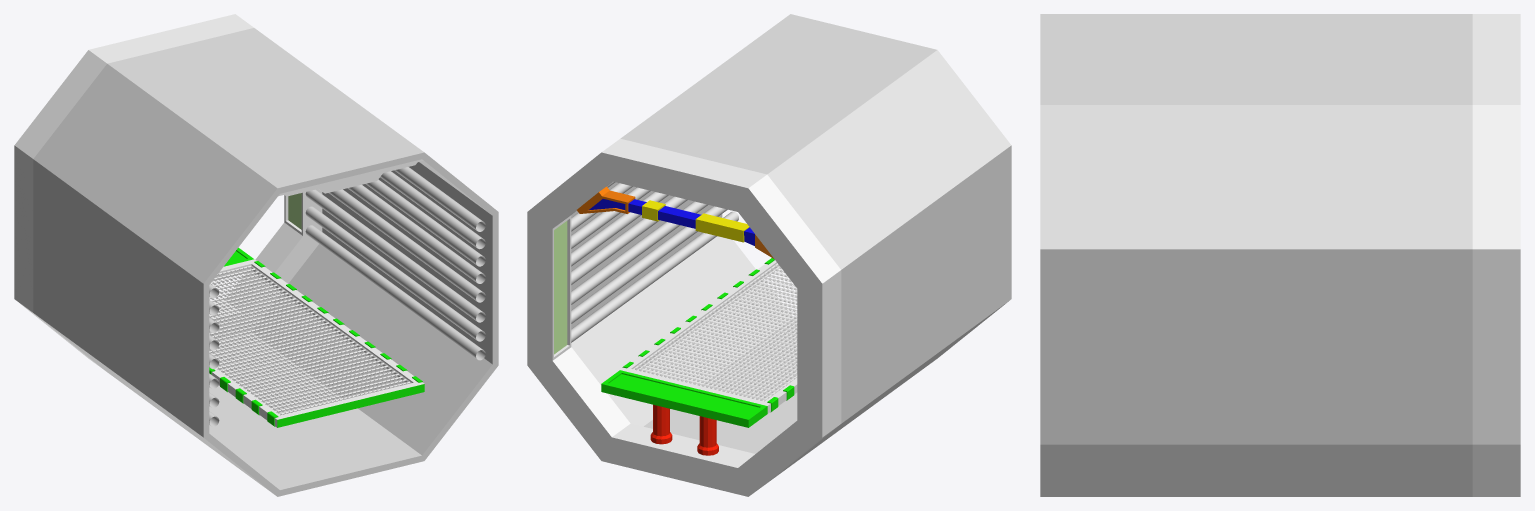
The model's file is Hallwaymodule.fbx.
3 views of the same model, side by side, from view 1: azimuth 30°, elevation 25°; view 2: azimuth 150°, elevation 25°; view 3: azimuth 270°, elevation 25° (orthographic). The views are drawn at different scales.
Visible parts, largest first — view 1: Cube.516, PipesModul.Hallway.020, Cube.432, HallwayModulMiddle.045, Cube.431, Cube.428; view 2: Cube.516, HallwayModulMiddle.045, Cube.432, PipesModul.Hallway.020, Cube.431; view 3: Cube.516, HallwayModulMiddle.045.
Part boxes in pixels (left/top/right/bottom): Cube.516: left=33, top=28, right=498, bottom=496; PipesModul.Hallway.020: left=209, top=167, right=485, bottom=426; Cube.432: left=209, top=265, right=411, bottom=415; HallwayModulMiddle.045: left=14, top=14, right=322, bottom=370; Cube.431: left=209, top=259, right=424, bottom=427; Cube.428: left=278, top=159, right=423, bottom=196; Cube.516: left=571, top=14, right=1011, bottom=481; HallwayModulMiddle.045: left=527, top=138, right=841, bottom=496; Cube.432: left=633, top=263, right=797, bottom=401; PipesModul.Hallway.020: left=571, top=181, right=738, bottom=342; Cube.431: left=620, top=258, right=797, bottom=413; Cube.516: left=1040, top=14, right=1472, bottom=496; HallwayModulMiddle.045: left=1472, top=14, right=1520, bottom=496.
Size of the model in its own units: 600 by 600 by 666.
